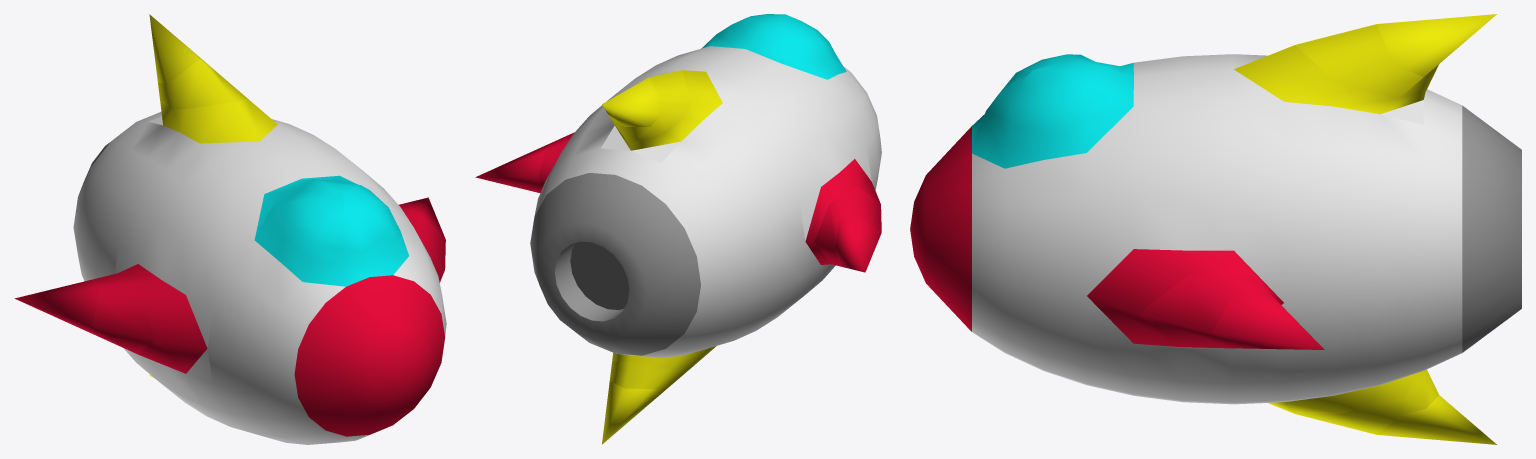
File: SpaceShip2.fbx
The picture shows the model from 3 angles, left to right: view 1: azimuth 30°, elevation 25°; view 2: azimuth 150°, elevation 25°; view 3: azimuth 270°, elevation 25°; orthographic projection. The views are drawn at different scales.
Parts seen in each view (by area): view 1: SpaceShip; view 2: SpaceShip; view 3: SpaceShip.
Part boxes in pixels (x1,y1,x2,y2): SpaceShip: [14, 14, 446, 444]; SpaceShip: [475, 14, 881, 444]; SpaceShip: [910, 14, 1521, 444].
Bounding box in the file's own units: 4.82 × 4.02 × 5.17.
